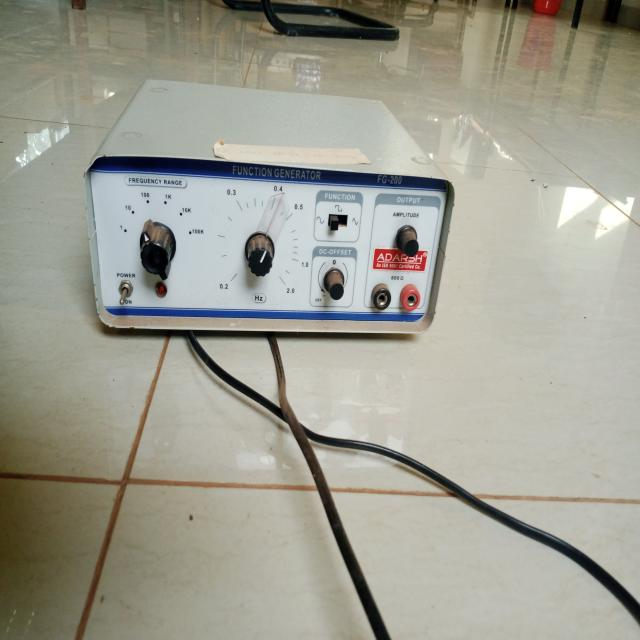Function Generator 100Khz: (80, 67, 459, 345)
